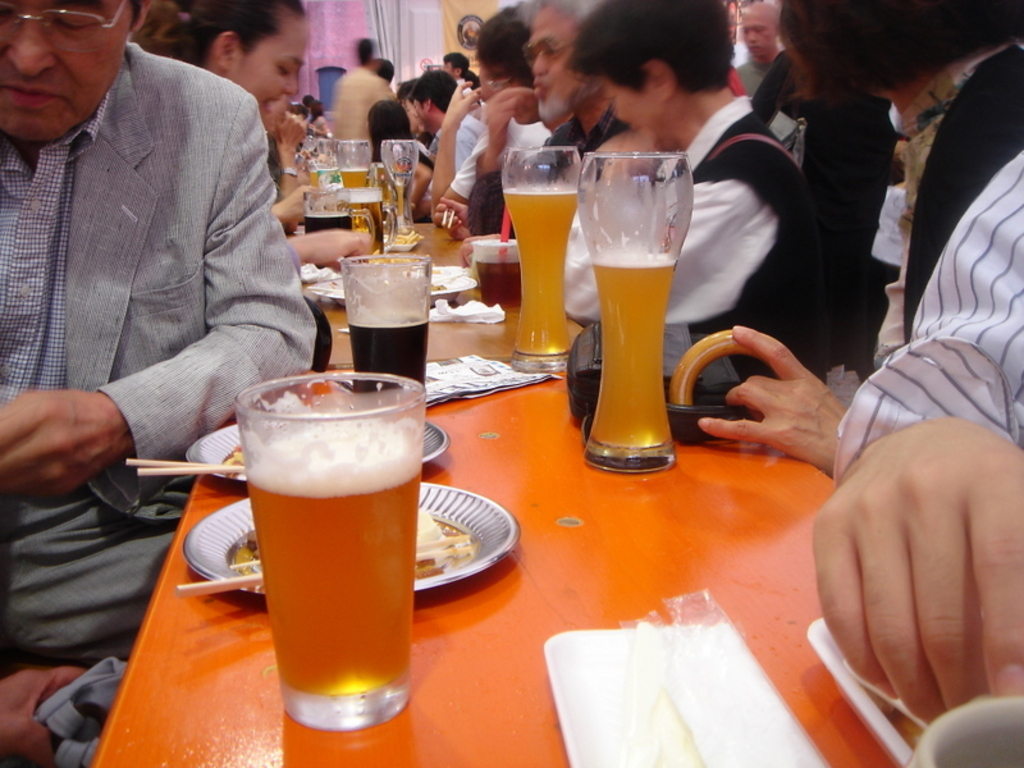Beer: (244, 416, 421, 701), (586, 247, 679, 454), (497, 180, 579, 354), (336, 163, 367, 209)
